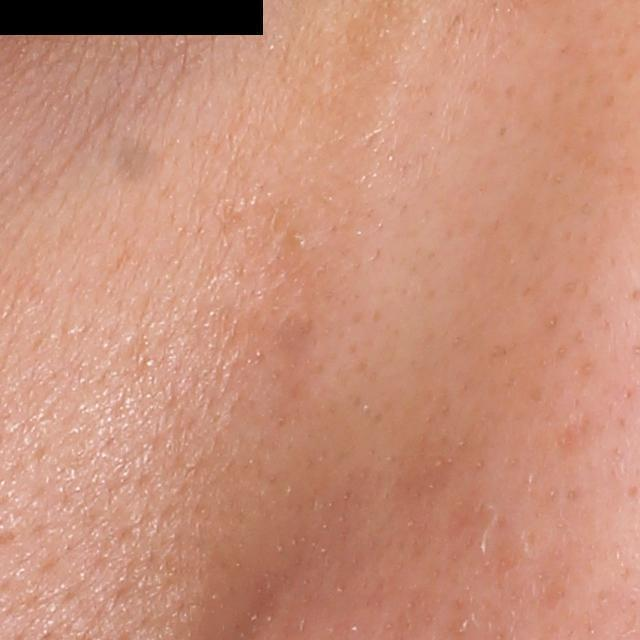comedo: (286, 228, 313, 250)
